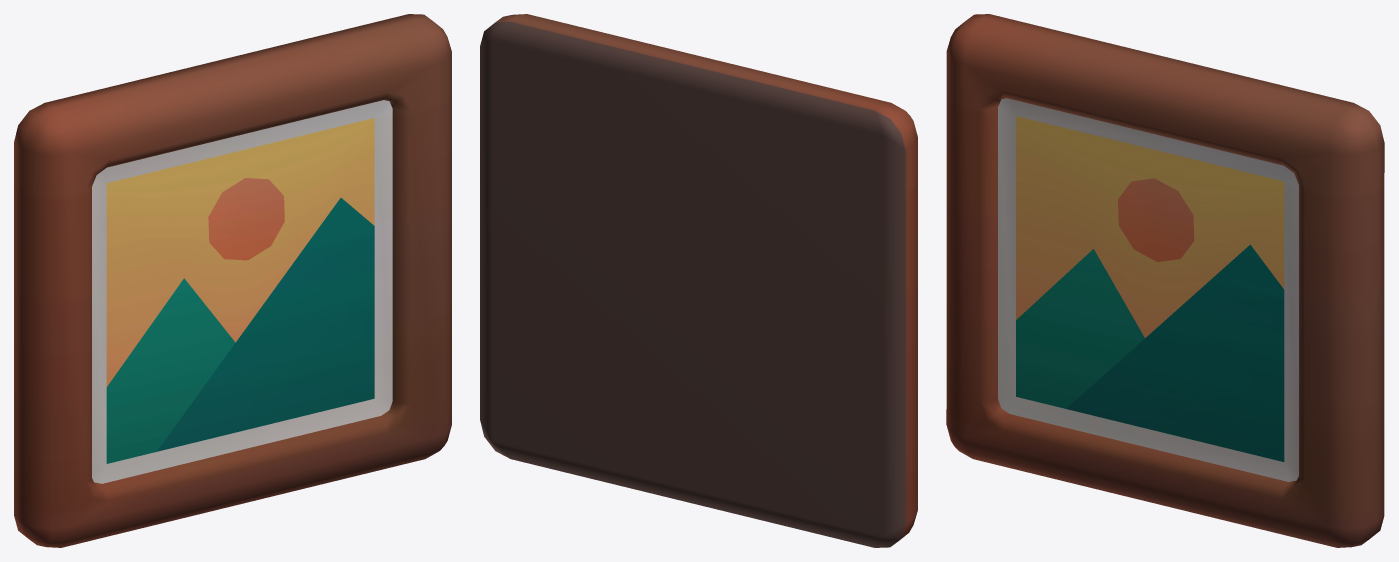
File: Picture_10.glb
The picture shows the model from 3 angles, left to right: view 1: azimuth 30°, elevation 25°; view 2: azimuth 150°, elevation 25°; view 3: azimuth 330°, elevation 25°; orthographic projection.
Visible parts, largest first — view 1: Picture_10; view 2: Picture_10; view 3: Picture_10.
Part boxes in pixels (x1,y1,x2,y2): Picture_10: (14, 14, 451, 547); Picture_10: (480, 14, 917, 547); Picture_10: (946, 14, 1384, 547).
Bounding box in the file's own units: 0.4773 × 0.4687 × 0.0585.
Materials: 1 (1 with a texture image).
